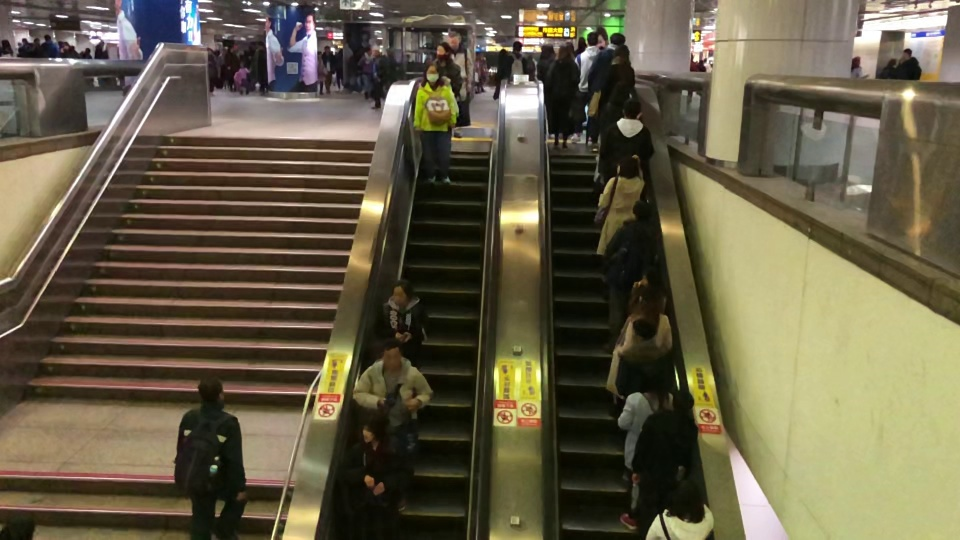person_head: (668, 478, 705, 517), (0, 513, 36, 540), (637, 363, 668, 394), (196, 374, 225, 403), (640, 264, 665, 294), (381, 337, 403, 371), (361, 414, 384, 444), (670, 389, 695, 414), (608, 79, 631, 106), (615, 155, 639, 180), (390, 279, 413, 305), (621, 98, 643, 120), (632, 200, 652, 223), (422, 60, 441, 83), (445, 28, 462, 50), (611, 44, 630, 62), (557, 41, 574, 60), (435, 41, 451, 61), (539, 42, 556, 59), (609, 32, 626, 47), (585, 31, 599, 47), (512, 41, 523, 55), (900, 48, 912, 60), (851, 55, 861, 67), (576, 36, 586, 48), (385, 47, 395, 59), (497, 48, 508, 58), (370, 46, 380, 57), (886, 58, 896, 67), (255, 40, 265, 49), (1, 38, 10, 47), (62, 40, 70, 50), (365, 45, 372, 56), (323, 45, 331, 54), (43, 33, 51, 42), (32, 37, 41, 45), (477, 52, 484, 60), (239, 61, 246, 69), (226, 47, 234, 54), (213, 49, 220, 57), (84, 46, 91, 54), (21, 37, 28, 45), (337, 48, 343, 56), (207, 47, 213, 55), (527, 54, 533, 61), (98, 40, 104, 47), (317, 51, 322, 59), (690, 52, 694, 61), (698, 59, 703, 65), (703, 57, 708, 62)
person_vbox: (176, 374, 248, 540), (630, 389, 699, 540), (334, 414, 415, 540), (351, 337, 433, 454), (616, 363, 673, 530), (598, 200, 658, 355), (607, 264, 667, 418), (412, 60, 460, 186), (371, 279, 433, 372), (594, 154, 645, 257), (597, 98, 656, 187), (590, 44, 635, 144), (643, 478, 715, 540), (543, 41, 580, 149), (569, 31, 600, 144), (445, 28, 474, 138), (587, 79, 631, 144), (586, 32, 626, 84), (432, 41, 463, 99), (369, 46, 387, 110), (889, 47, 922, 80), (502, 40, 527, 83), (250, 40, 267, 93), (356, 45, 372, 100), (492, 48, 508, 101), (535, 42, 556, 80), (224, 47, 239, 91), (94, 40, 108, 87), (687, 53, 699, 103), (322, 45, 334, 94), (385, 47, 398, 91), (475, 52, 488, 94), (25, 36, 50, 57), (317, 51, 328, 96), (237, 60, 251, 95), (40, 33, 59, 58), (850, 55, 869, 79), (333, 48, 343, 92), (695, 59, 706, 96), (878, 58, 897, 79), (59, 40, 80, 59), (213, 49, 222, 90), (207, 47, 215, 92), (16, 37, 30, 58), (0, 38, 14, 58), (574, 36, 586, 56), (527, 54, 535, 81), (79, 46, 92, 59), (703, 57, 711, 73)
